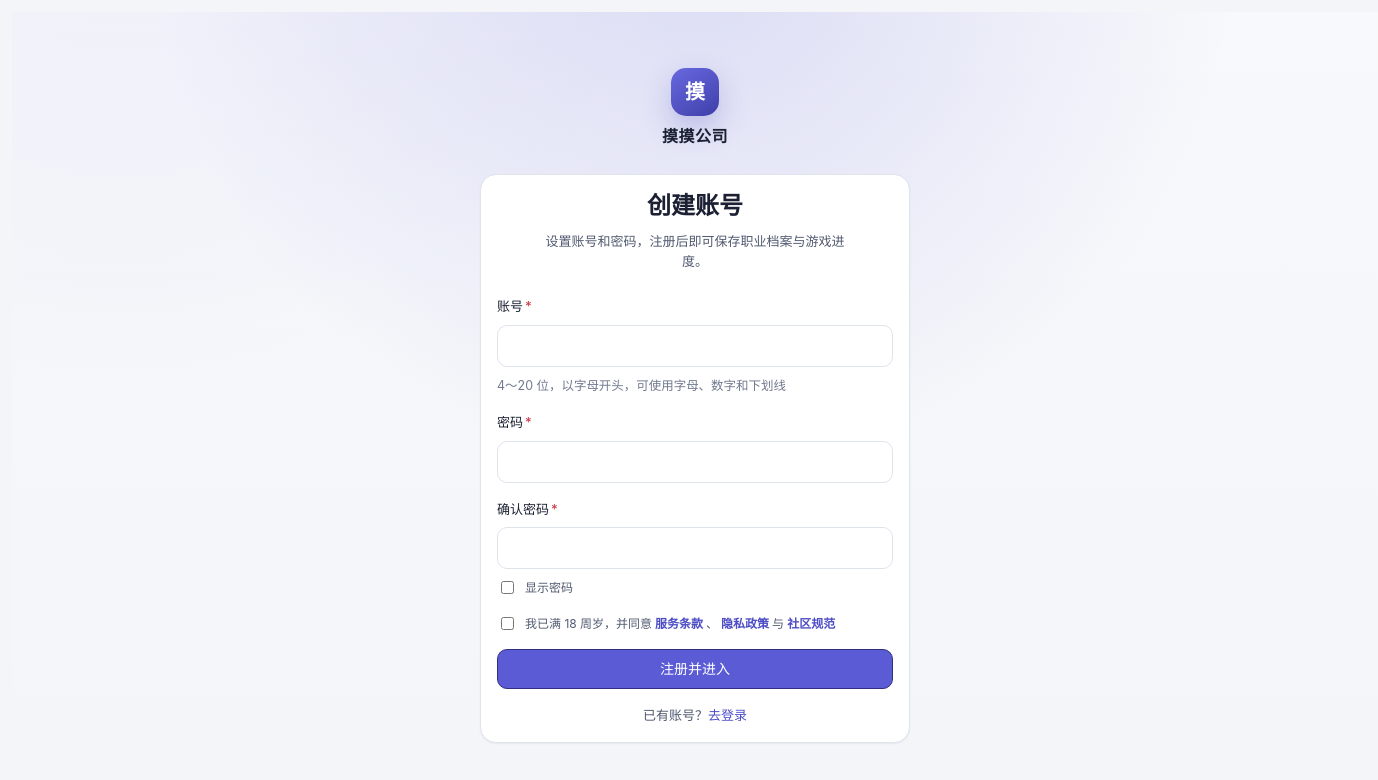
Test: CommunityRegisterPage › creates a username account with versioned consent records and enters onboarding
Type " Office_User " into the field labelled "账号".
click(695, 346); type(" Office_User ")  # box [497,325,893,367]
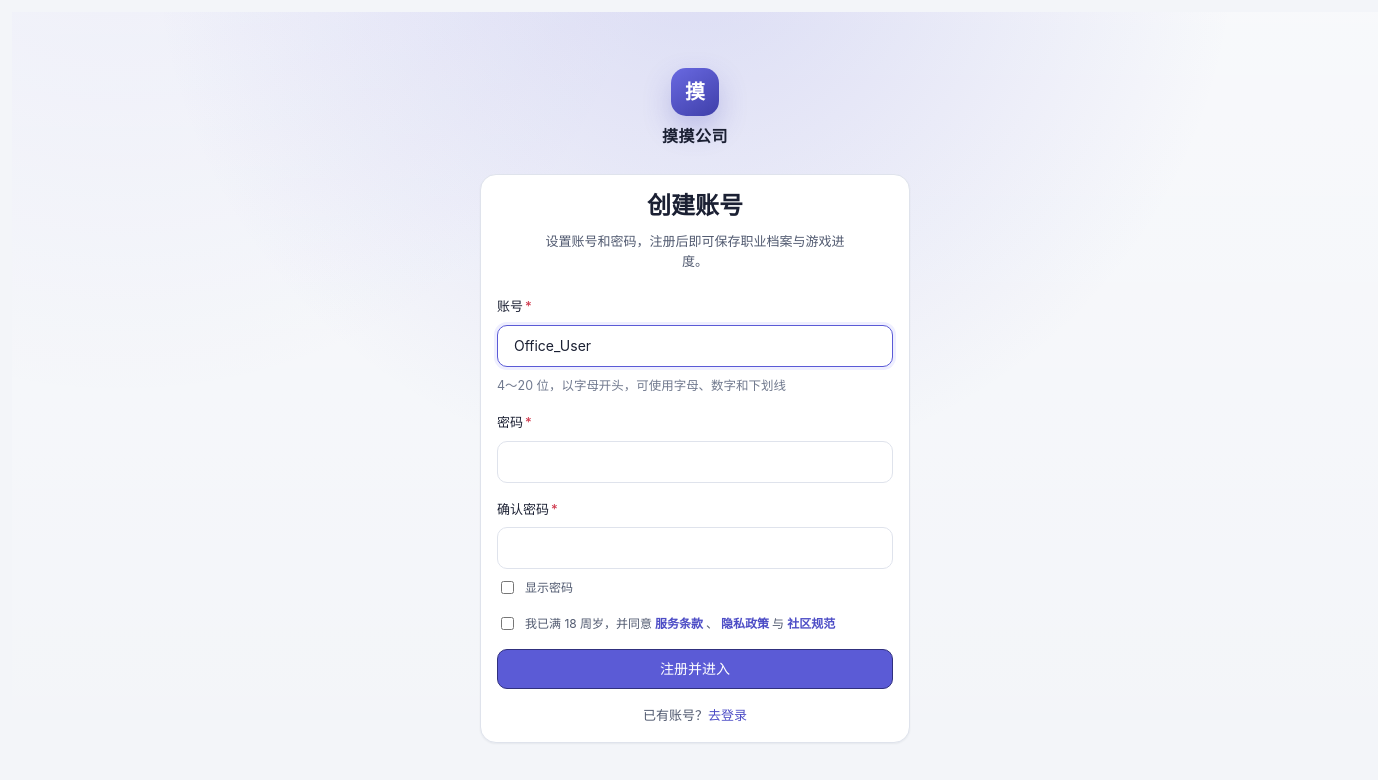
Type "secure-office-123" into the password field labelled "密码*".
click(695, 462); type("secure-office-123")  # box [497,441,893,483]
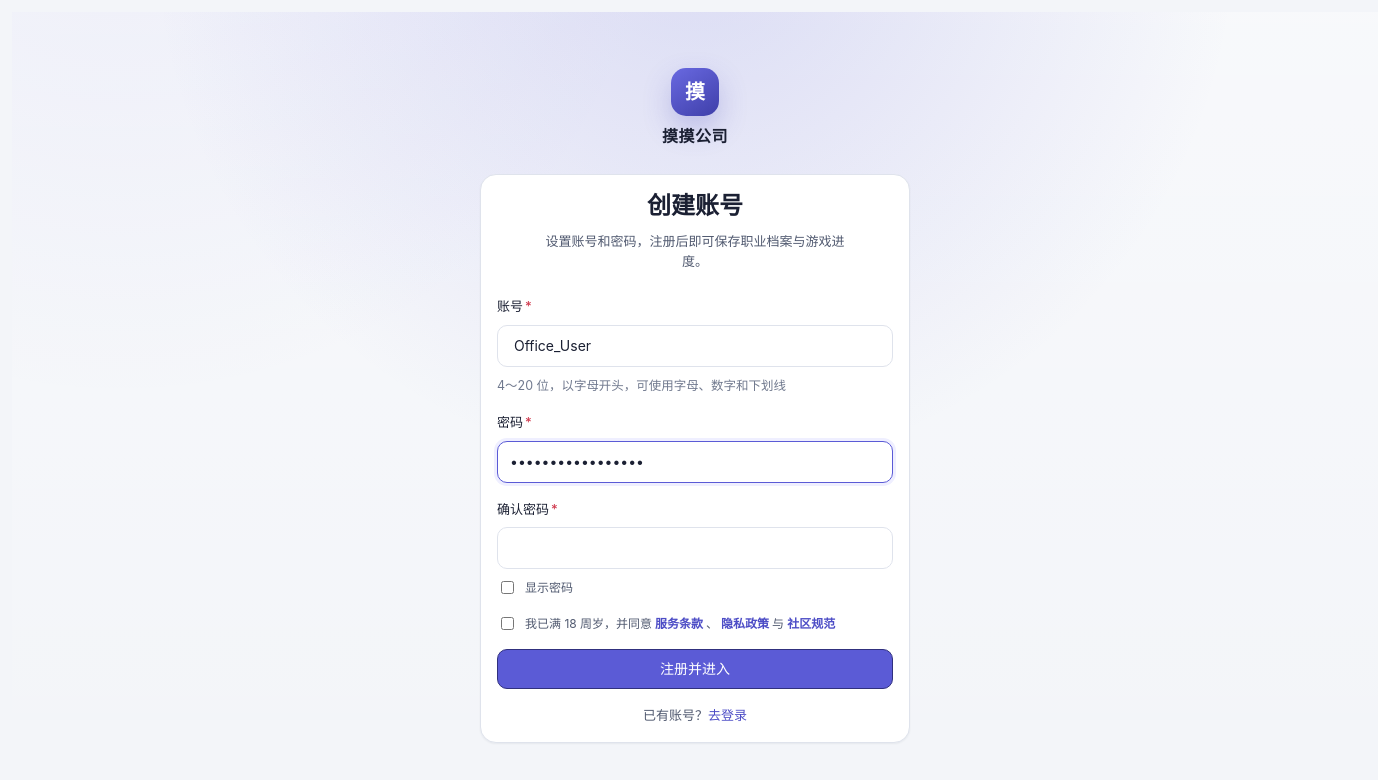
Type "secure-office-123" into the password field labelled "确认密码*".
click(695, 548); type("secure-office-123")  # box [497,527,893,569]
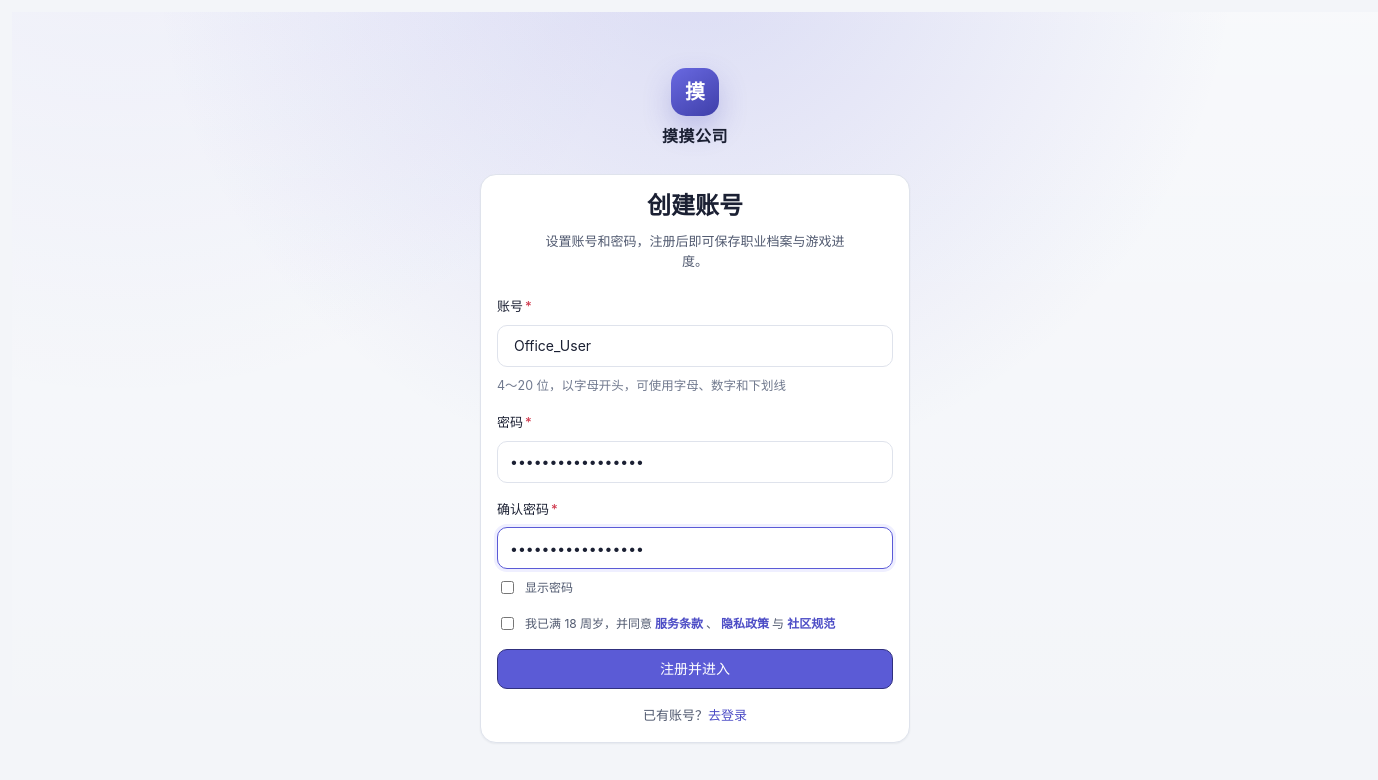
Click the checkbox labelled "我已满 18 周岁，并同意 服务条款 、 隐私政策 与 社区规范".
click(508, 623)  # box [501,616,514,630]
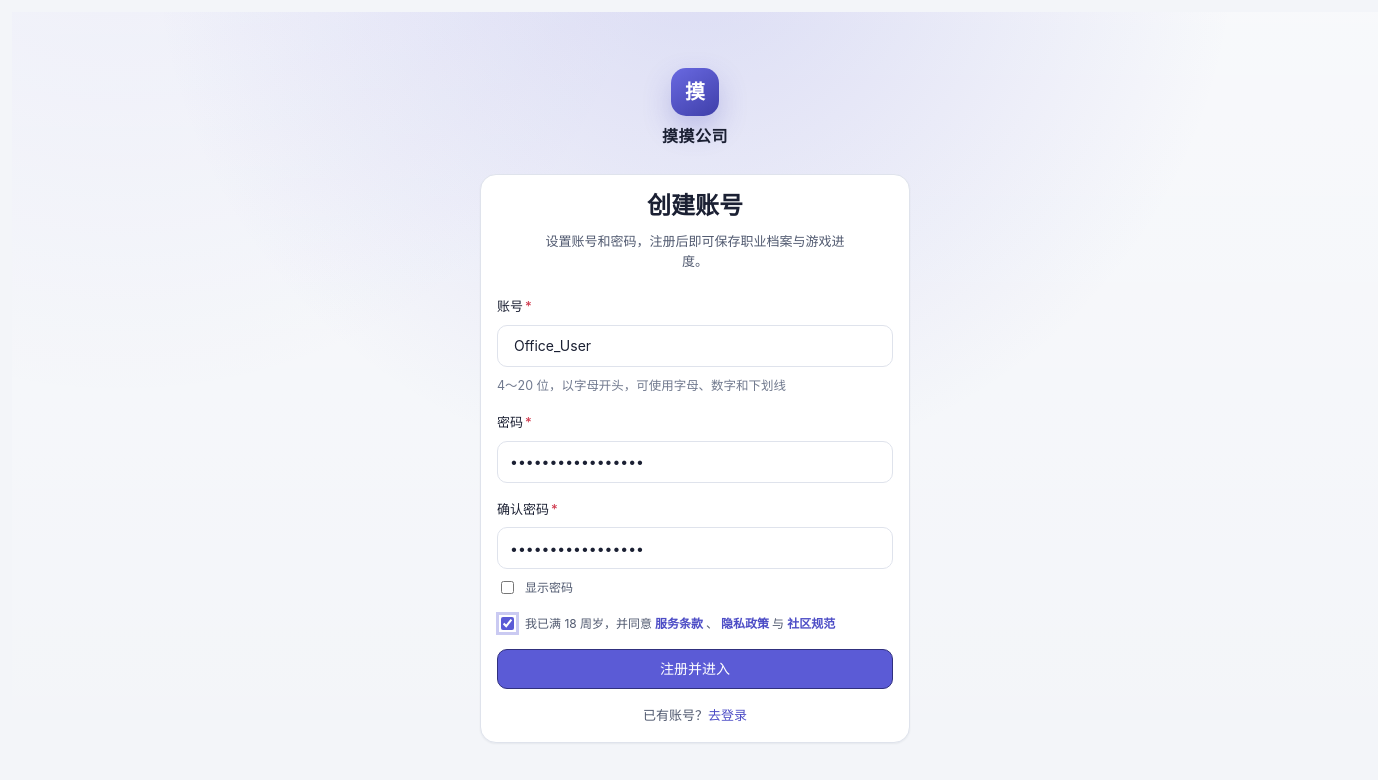
Click the button "注册并进入".
click(695, 669)  # box [497,649,893,689]
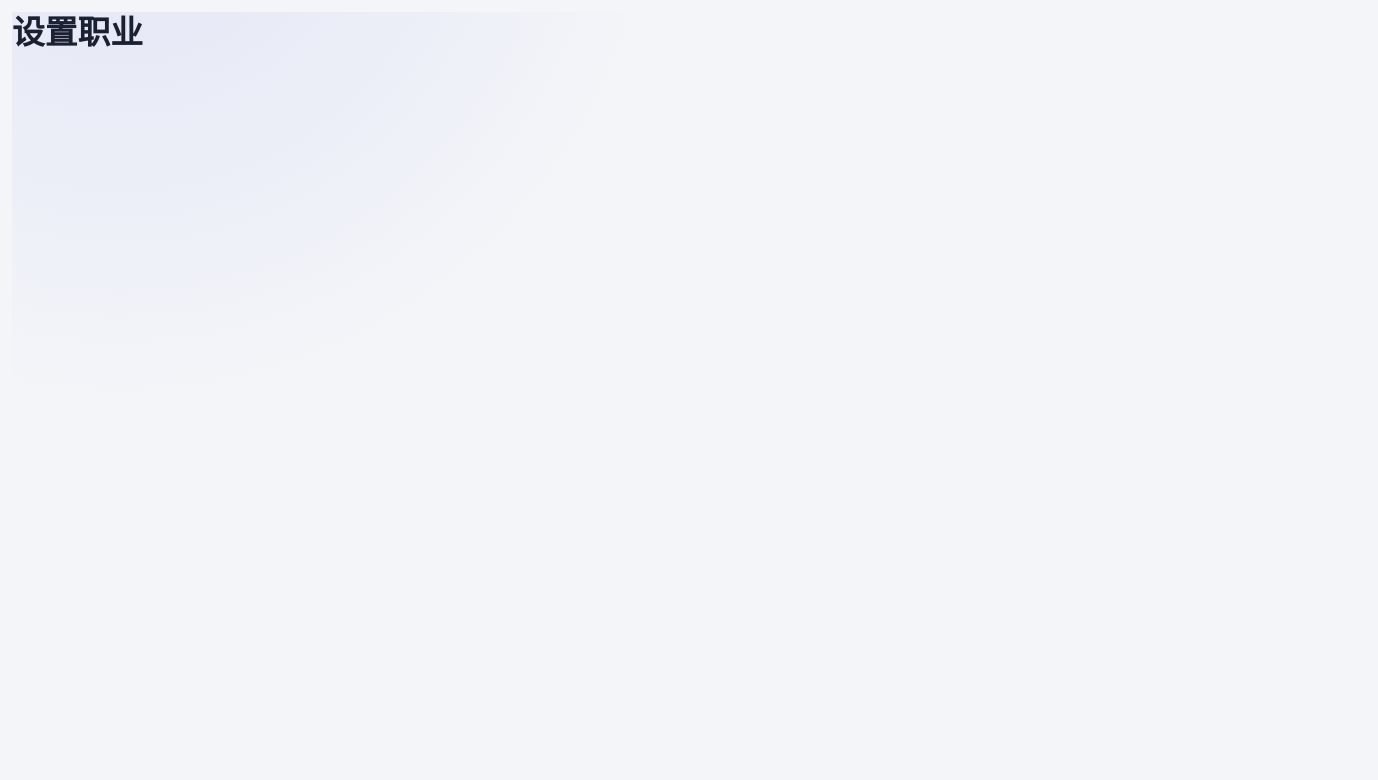
Expected: the heading "设置职业" is shown, [12,12,143,52]
